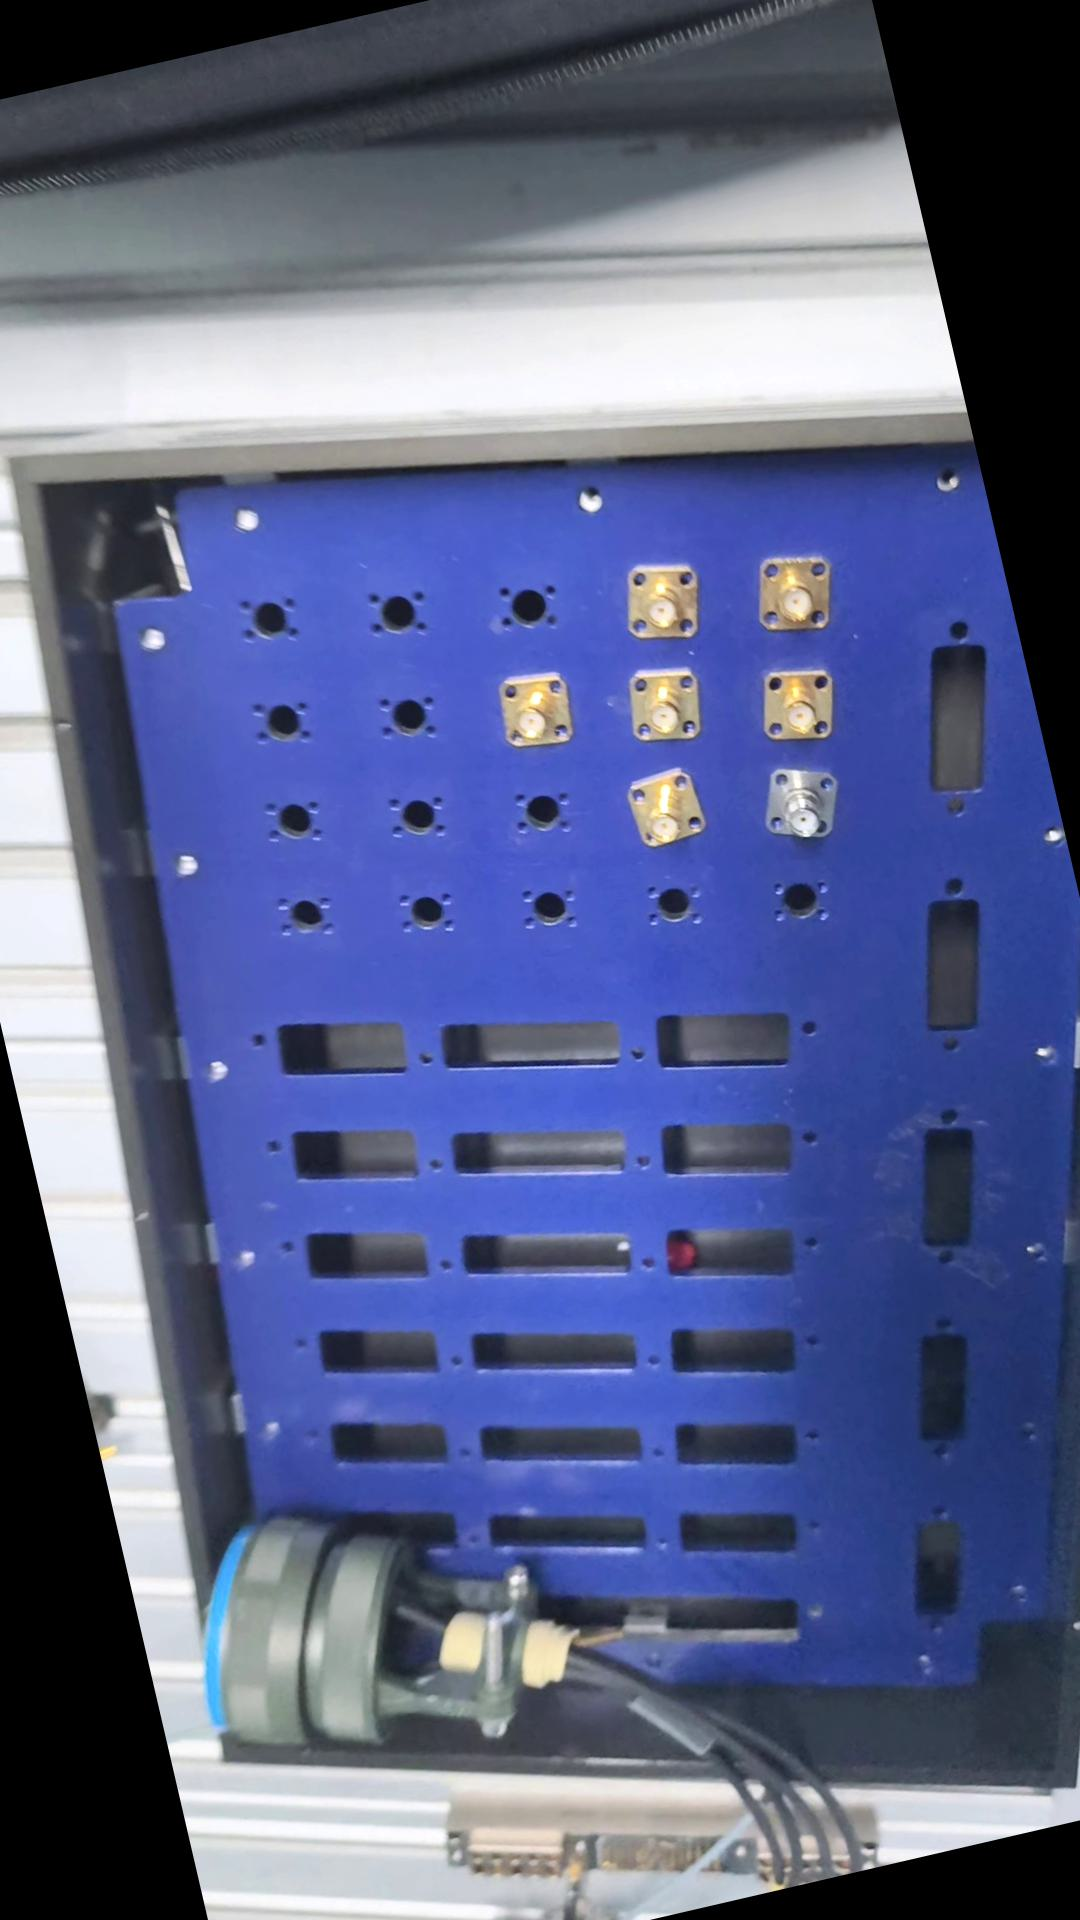SMA: (738, 541, 848, 640), (605, 554, 713, 651), (484, 665, 578, 764), (616, 764, 709, 856), (746, 663, 843, 752), (754, 756, 848, 844), (618, 663, 711, 746)
